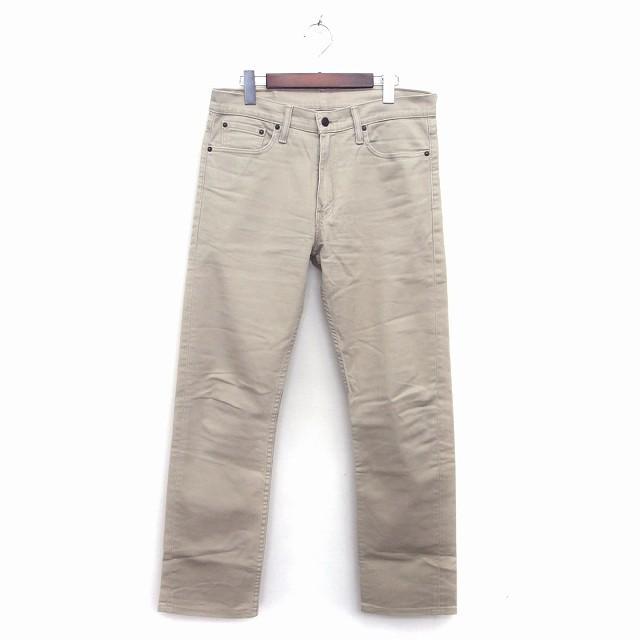long-pants: (154, 84, 457, 619)
